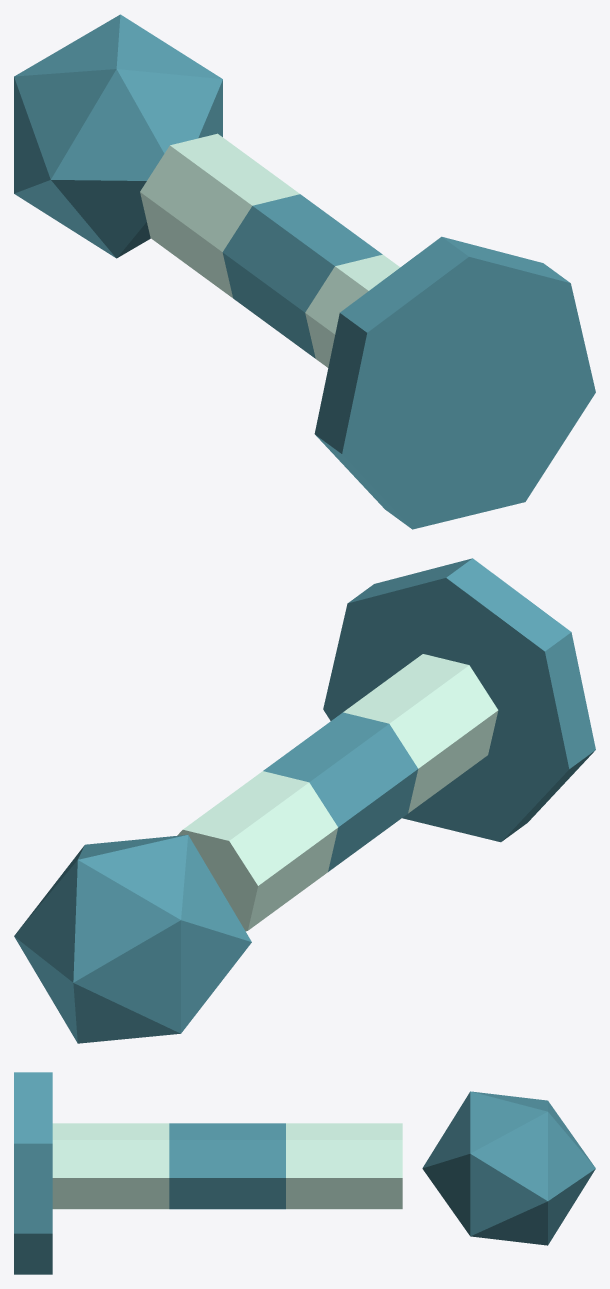
The model's file is Bollardcompleted.fbx.
3 views of the same model, one above another, from view 1: azimuth 30°, elevation 25°; view 2: azimuth 150°, elevation 25°; view 3: azimuth 270°, elevation 25° (orthographic). The views are drawn at different scales.
Visible parts, largest first — view 1: Bollardcompleted; view 2: Bollardcompleted; view 3: Bollardcompleted.
Boxes of the visible parts, x1=… form: Bollardcompleted: x1=14, y1=14, x2=595, y2=529; Bollardcompleted: x1=14, y1=558, x2=595, y2=1043; Bollardcompleted: x1=14, y1=1072, x2=595, y2=1274.
Size of the model in its own units: 1.2 by 1.17 by 3.37.
